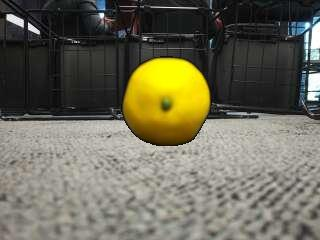lemon: (122, 57, 208, 145)
